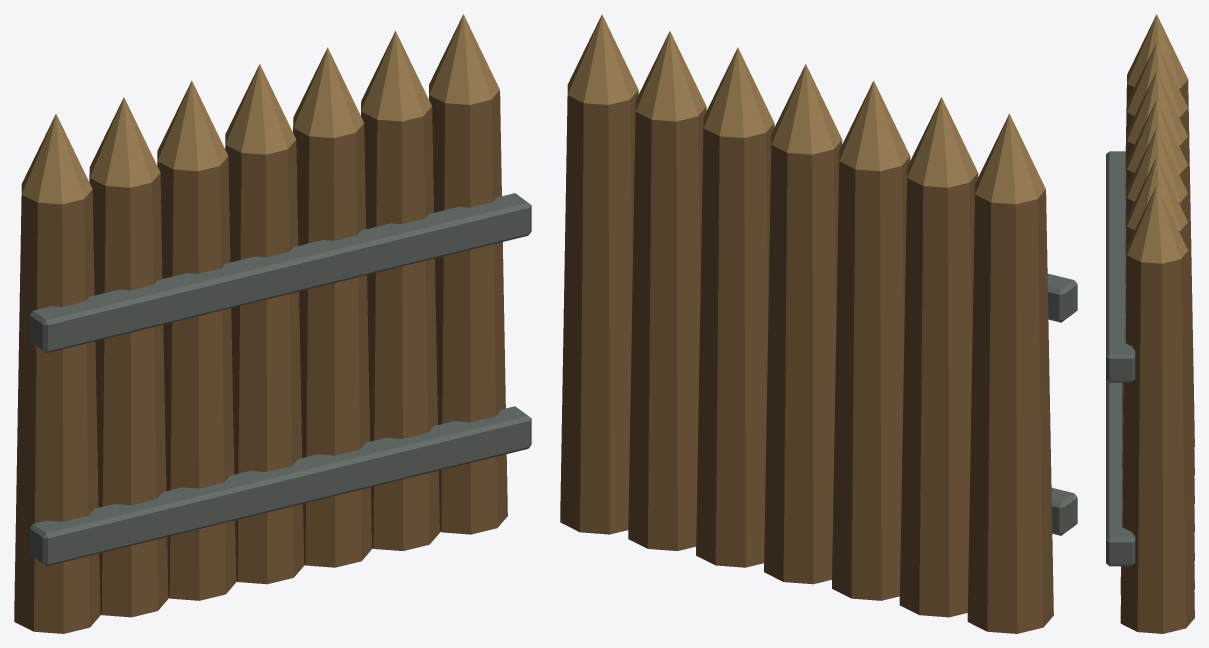
The model's file is BP_Fence_Palisade.fbx.
The picture shows the model from 3 angles, left to right: view 1: azimuth 30°, elevation 25°; view 2: azimuth 150°, elevation 25°; view 3: azimuth 270°, elevation 25°; orthographic projection. The views are drawn at different scales.
Visible parts, largest first — view 1: BP_Fence_Palisade; view 2: BP_Fence_Palisade; view 3: BP_Fence_Palisade.
Boxes of the visible parts, left/top/right/bottom form: BP_Fence_Palisade: left=14, top=14, right=531, bottom=633; BP_Fence_Palisade: left=560, top=14, right=1077, bottom=633; BP_Fence_Palisade: left=1106, top=14, right=1194, bottom=633.
Size of the model in its own units: 216 by 212 by 39.5.
